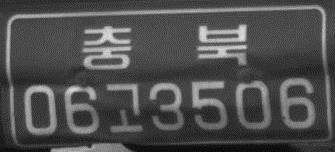0: (234, 76, 273, 132), (22, 82, 58, 136)
3: (149, 80, 185, 134)
5: (189, 79, 228, 133)
6: (278, 74, 318, 132), (61, 80, 100, 136)
고: (104, 79, 147, 135)
충북_D: (80, 21, 251, 73)
